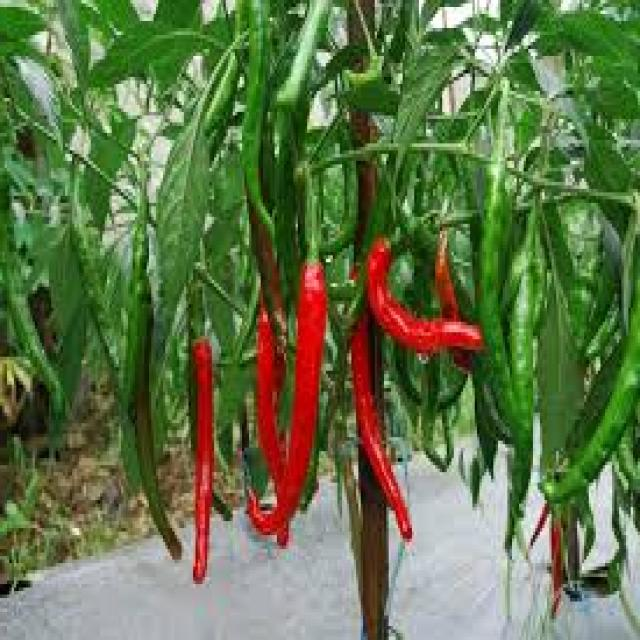sehat: (138, 98, 218, 318)
